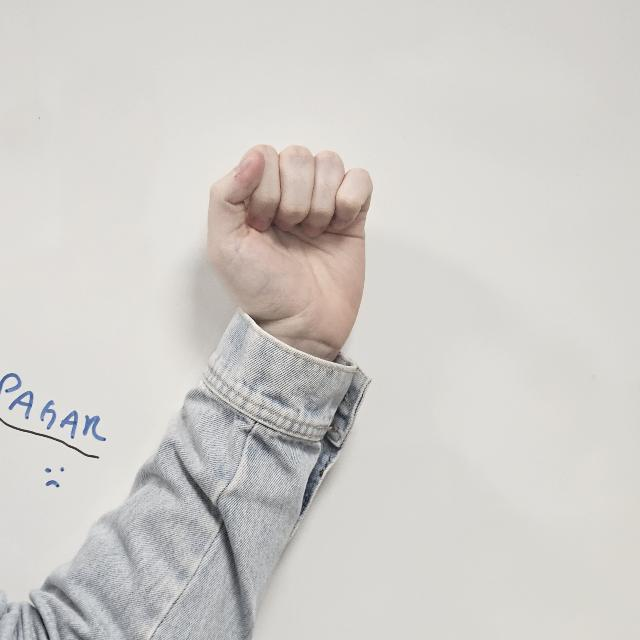Quadro: (207, 137, 373, 346)
